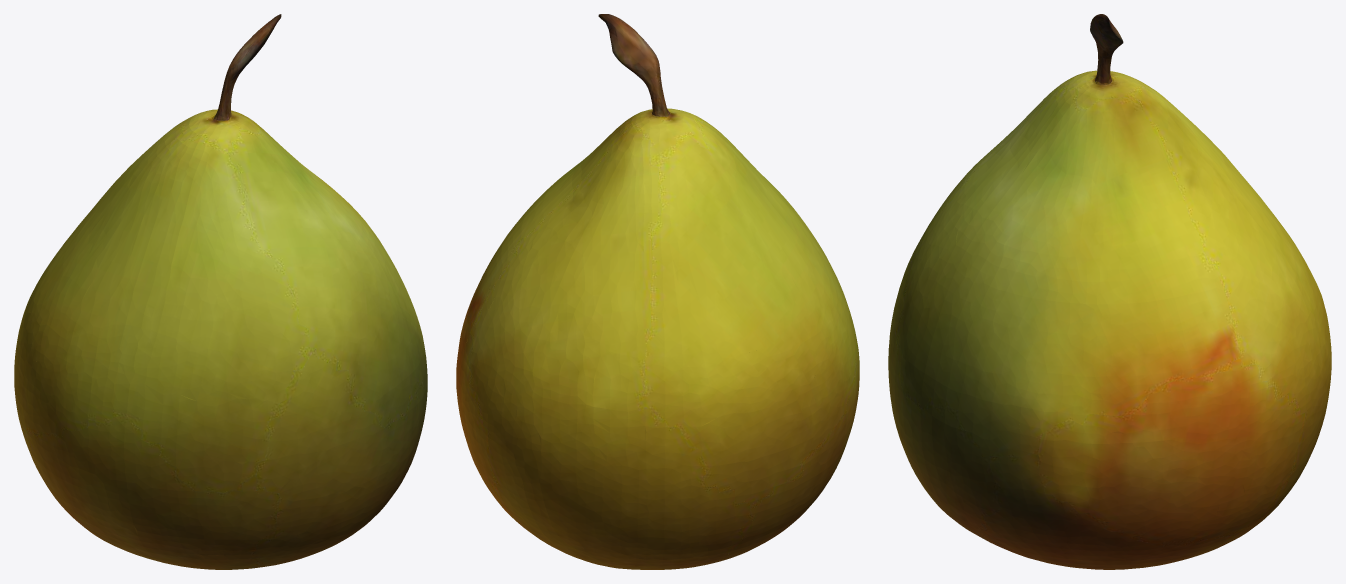
Rendered from large_yellow_pear_in_the_center_000.glb.
3 renders of one model, left to right at view 1: azimuth 30°, elevation 25°; view 2: azimuth 150°, elevation 25°; view 3: azimuth 270°, elevation 25°, orthographic. The views are drawn at different scales.
Visible parts, largest first — view 1: phase2_final_large_yellow_pear_in_the_center_000.obj; view 2: phase2_final_large_yellow_pear_in_the_center_000.obj; view 3: phase2_final_large_yellow_pear_in_the_center_000.obj.
Boxes of the visible parts, <box> form: phase2_final_large_yellow_pear_in_the_center_000.obj: <box>14,14,427,569</box>; phase2_final_large_yellow_pear_in_the_center_000.obj: <box>456,14,859,569</box>; phase2_final_large_yellow_pear_in_the_center_000.obj: <box>888,14,1331,569</box>.
Size of the model in its own units: 0.2555 by 0.3502 by 0.2589.
1 material, 1 textured.
